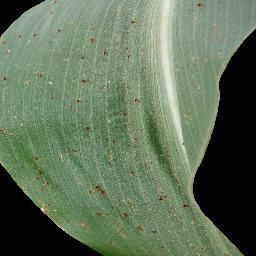Corn_Common_Rust: (100, 102, 166, 151), (82, 30, 137, 75), (128, 164, 179, 206), (77, 77, 146, 104), (2, 24, 43, 61), (115, 203, 161, 235), (1, 115, 31, 157), (62, 112, 95, 146), (188, 52, 219, 83), (47, 2, 75, 35), (76, 212, 117, 234), (84, 179, 111, 208), (28, 153, 51, 187), (66, 143, 103, 164), (39, 195, 63, 227), (116, 12, 145, 35), (180, 106, 204, 133), (34, 67, 70, 84), (146, 246, 204, 256), (198, 22, 226, 41), (184, 201, 200, 234), (180, 0, 217, 13), (2, 68, 15, 91), (100, 216, 101, 217)
